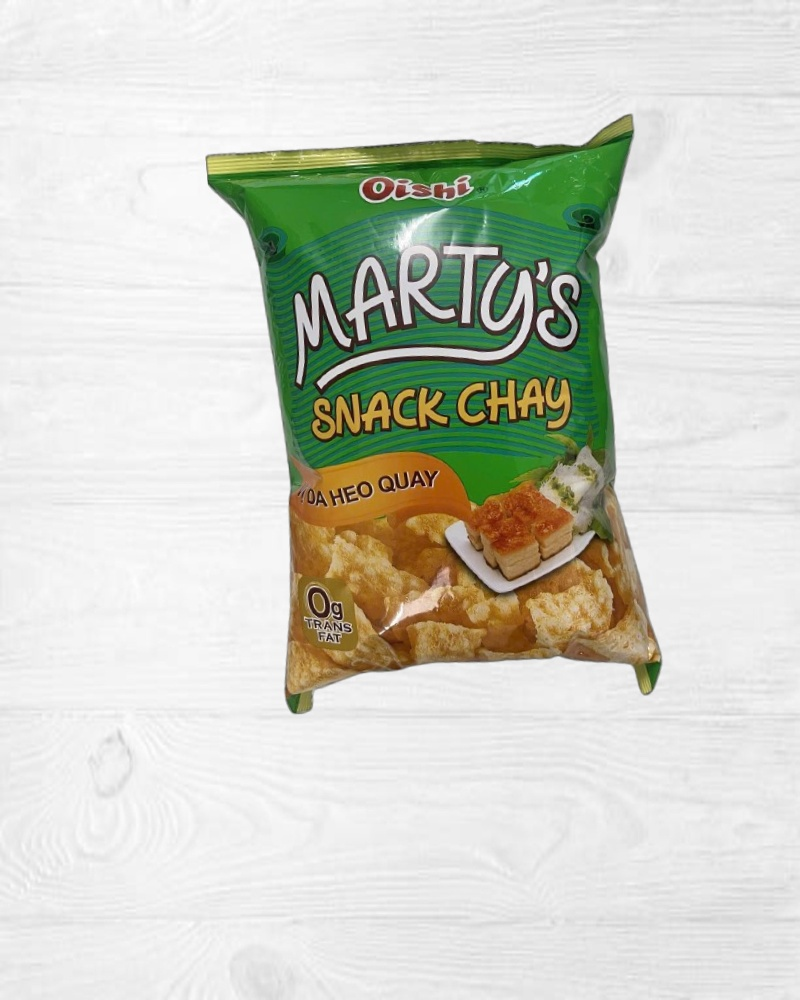Snack chay: (206, 114, 684, 730)
